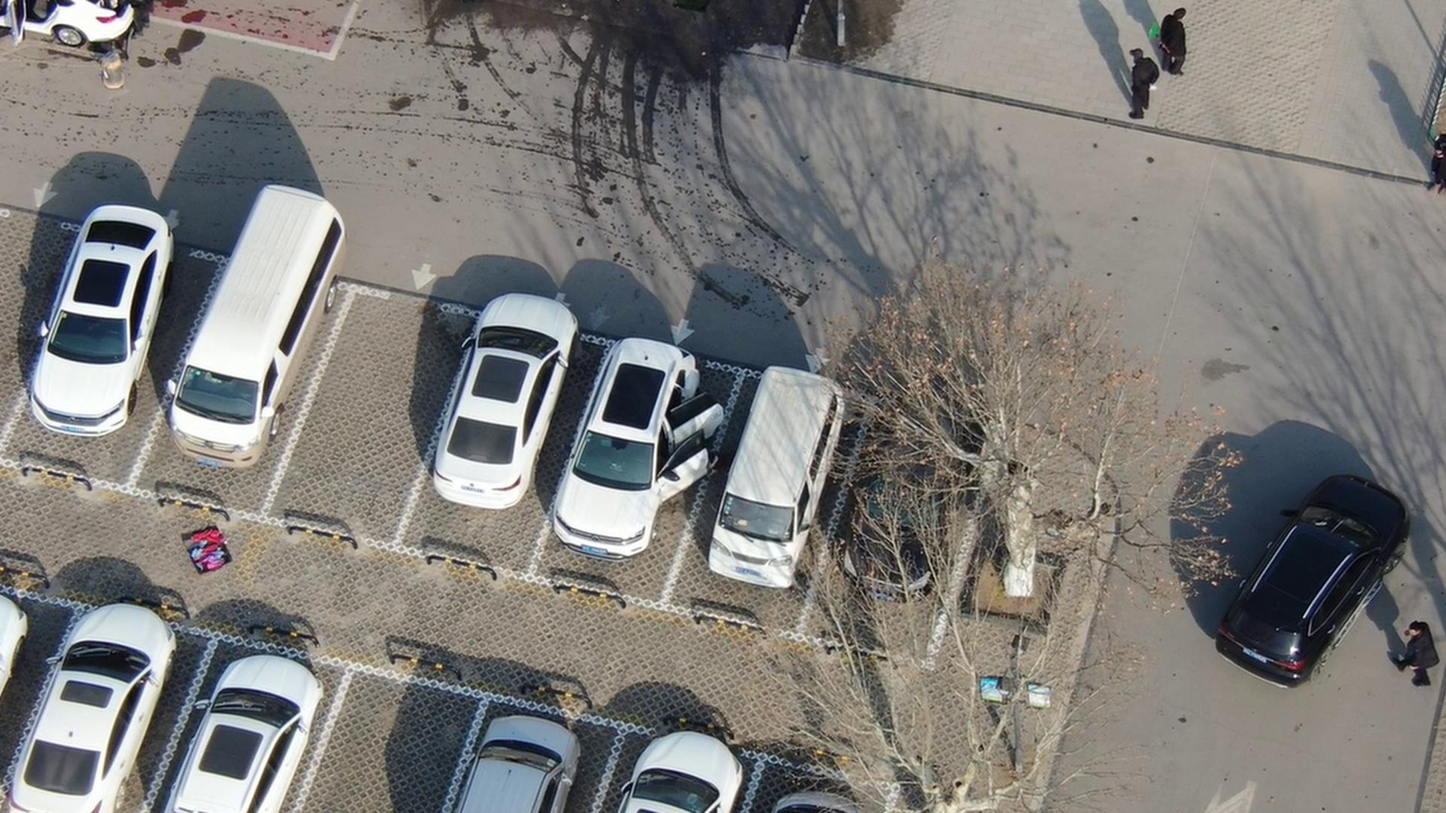human: (1379, 619, 1438, 697), (1118, 42, 1159, 133), (1410, 127, 1446, 202), (1158, 1, 1188, 84)
